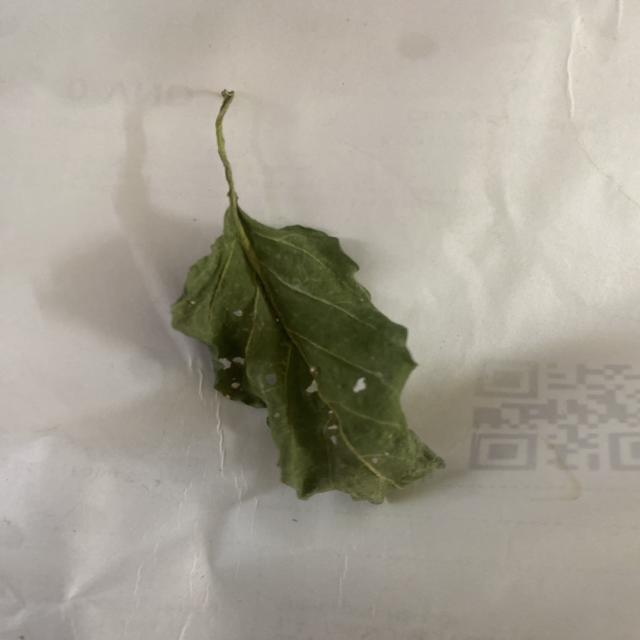Leaf: (167, 212, 447, 504)
